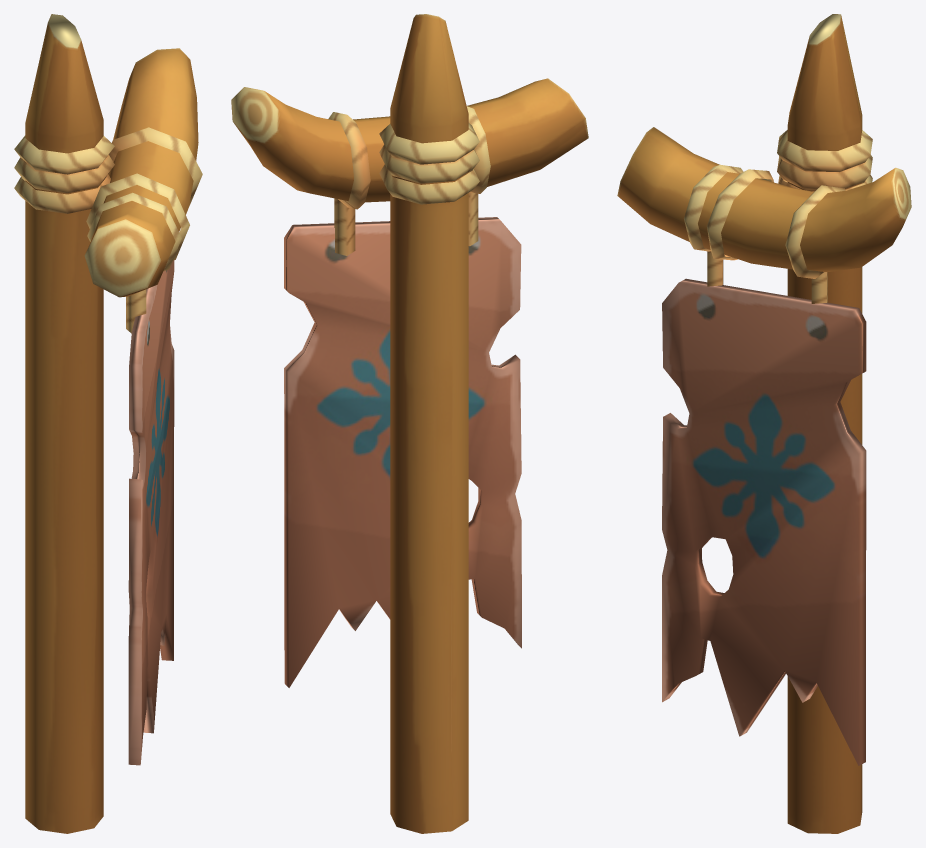
3 views of the same model, side by side, from view 1: azimuth 30°, elevation 25°; view 2: azimuth 150°, elevation 25°; view 3: azimuth 270°, elevation 25° (orthographic).
Visible parts, largest first — view 1: SM_s21a; view 2: SM_s21a; view 3: SM_s21a.
Boxes of the visible parts, left/top/right/bottom form: SM_s21a: left=14, top=14, right=202, bottom=833; SM_s21a: left=231, top=14, right=588, bottom=833; SM_s21a: left=617, top=14, right=911, bottom=833.
Bounding box in the file's own units: 103 × 346 × 115.
